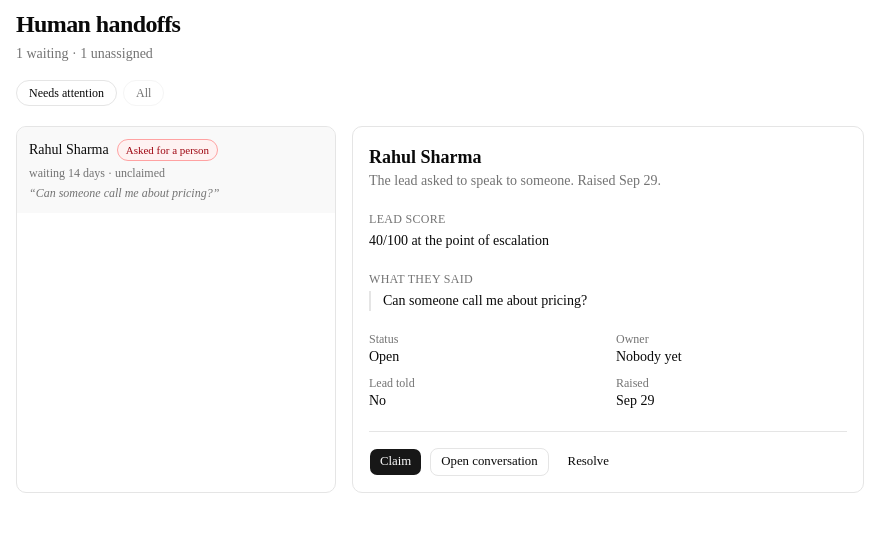
Test: HandoffsView › reports a lost claim race in the user's words, not a status code
The image size is (881, 534).
Click the button "Claim" at [396, 462], box 369,448 -> 422,476
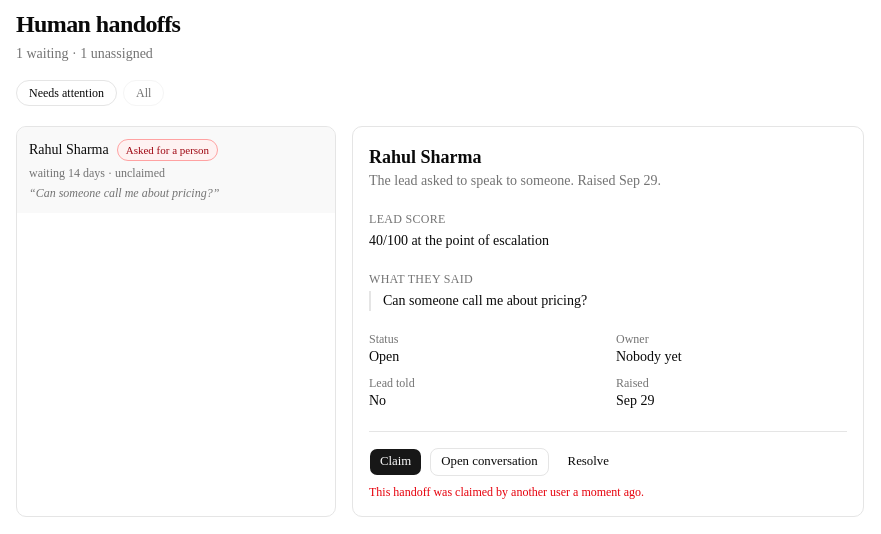
Now the text "This handoff was claimed by another user a moment ago." is shown, box 369,484 -> 644,500
